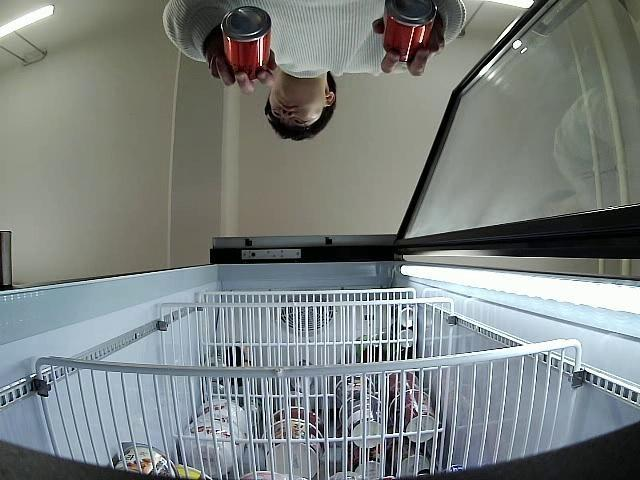11_cocaColaZero: (222, 8, 270, 76), (383, 0, 435, 58)
